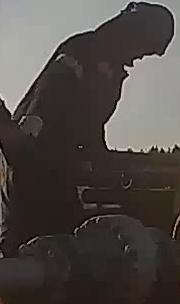vest: (14, 30, 122, 197)
